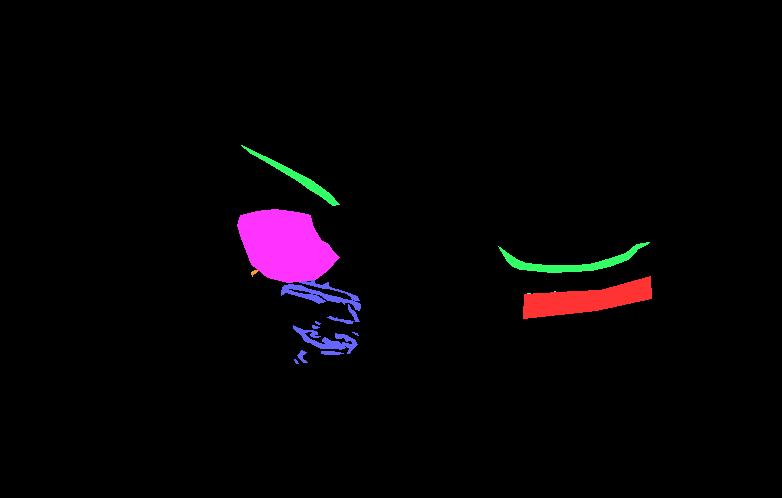Broken part: (241, 145, 339, 205), (498, 242, 649, 272)
Dent: (237, 209, 339, 282)
Flaking: (525, 293, 530, 297), (552, 291, 556, 295), (544, 299, 547, 303)
Missing part: (523, 276, 651, 318)
Paint chip: (251, 270, 258, 276)
Scratch: (239, 213, 314, 245), (281, 284, 360, 310), (297, 275, 359, 300), (293, 325, 345, 349), (335, 333, 357, 353), (308, 238, 317, 273), (348, 304, 359, 321), (327, 316, 353, 323), (297, 350, 307, 362), (321, 351, 343, 354), (312, 325, 319, 328), (352, 332, 358, 335), (294, 359, 298, 363), (315, 321, 320, 324)
